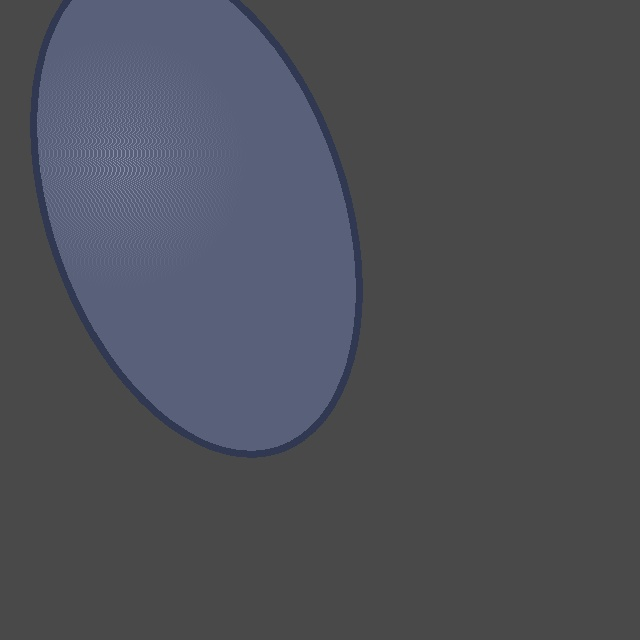lens: (33, 0, 359, 453)
